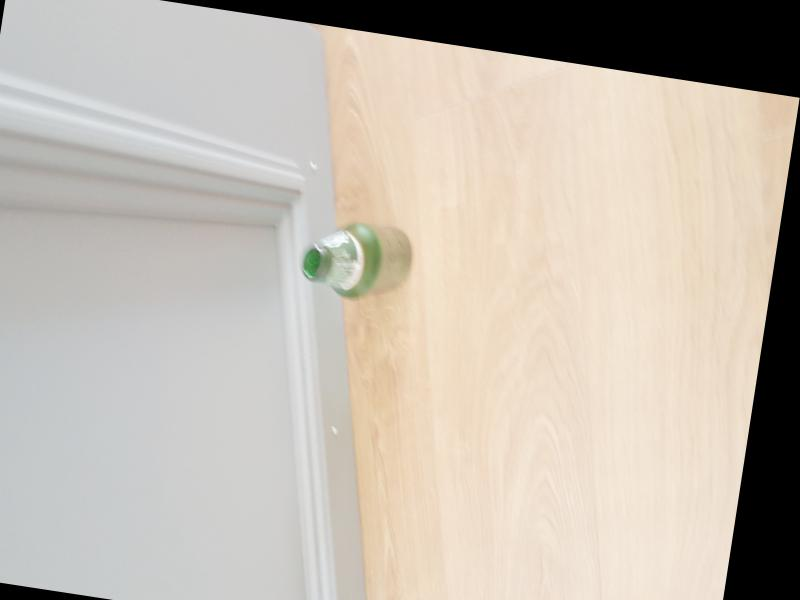Beer: (298, 216, 415, 306)
